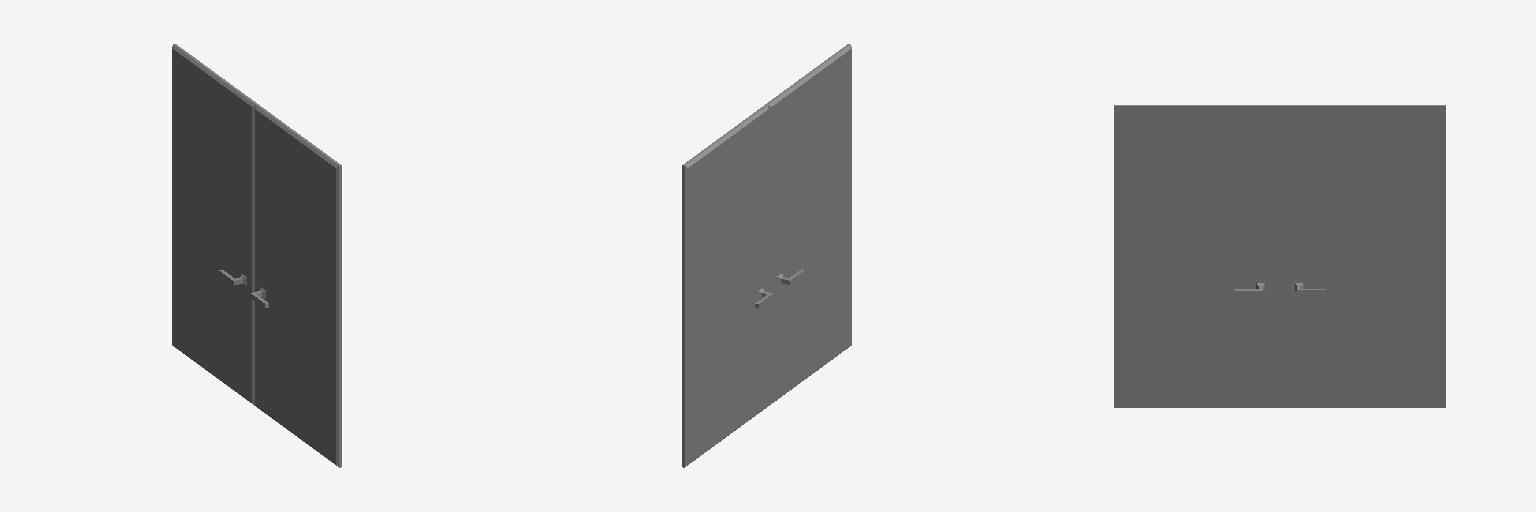
The model's file is Door_15.obj.
The picture shows the model from 3 angles: view 1: azimuth 30°, elevation 25°; view 2: azimuth 150°, elevation 25°; view 3: azimuth 270°, elevation 25°; orthographic projection.
Parts seen in each view (by area): view 1: Box368, Box367; view 2: Box367, Box368; view 3: Box367, Box368.
Part boxes in pixels (x1,y1,x2,y2): Box368: (255, 104, 341, 467); Box367: (172, 44, 257, 405); Box367: (682, 104, 768, 467); Box368: (766, 44, 851, 405); Box367: (1280, 105, 1445, 407); Box368: (1114, 105, 1279, 407).
Bounding box in the file's own units: 11.32 × 118 × 118.